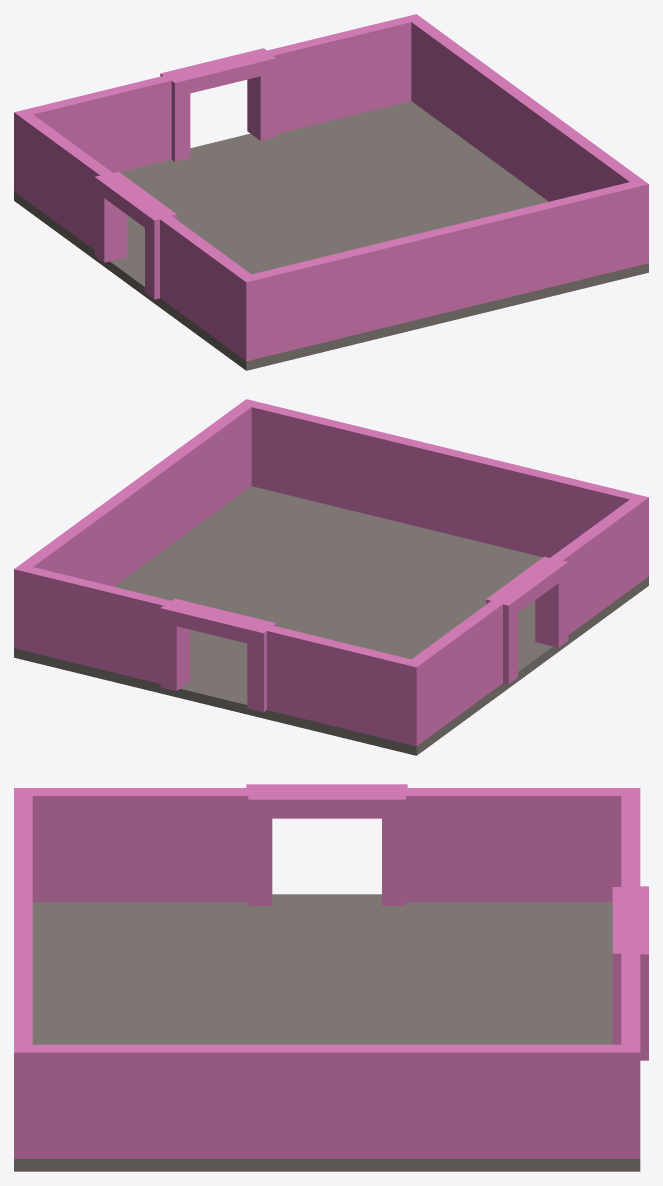
The model's file is room_2ways.fbx.
The picture shows the model from 3 angles, top to bottom: view 1: azimuth 30°, elevation 25°; view 2: azimuth 150°, elevation 25°; view 3: azimuth 270°, elevation 25°; orthographic projection. The views are drawn at different scales.
Visible parts, largest first — view 1: room_2ways; view 2: room_2ways; view 3: room_2ways.
Part boxes in pixels (x1,y1,x2,y2): room_2ways: (14, 14, 648, 370); room_2ways: (14, 399, 648, 755); room_2ways: (14, 784, 648, 1171).
Bounding box in the file's own units: 2028 × 420 × 2028.
